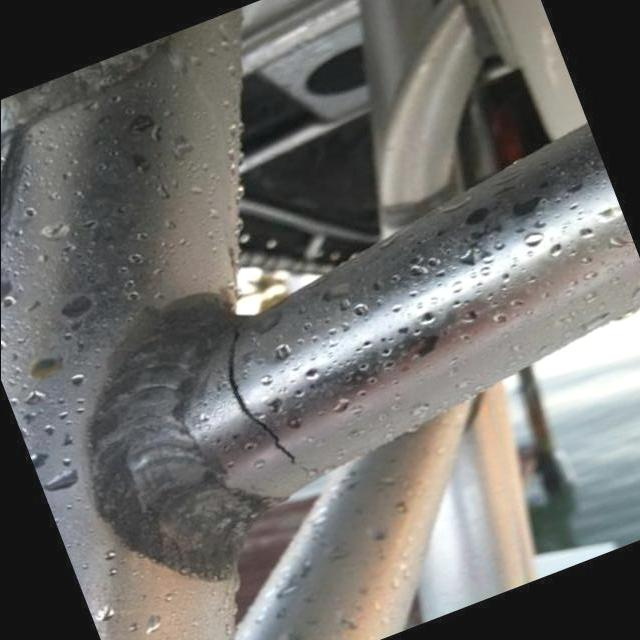defect: (222, 315, 304, 471)
